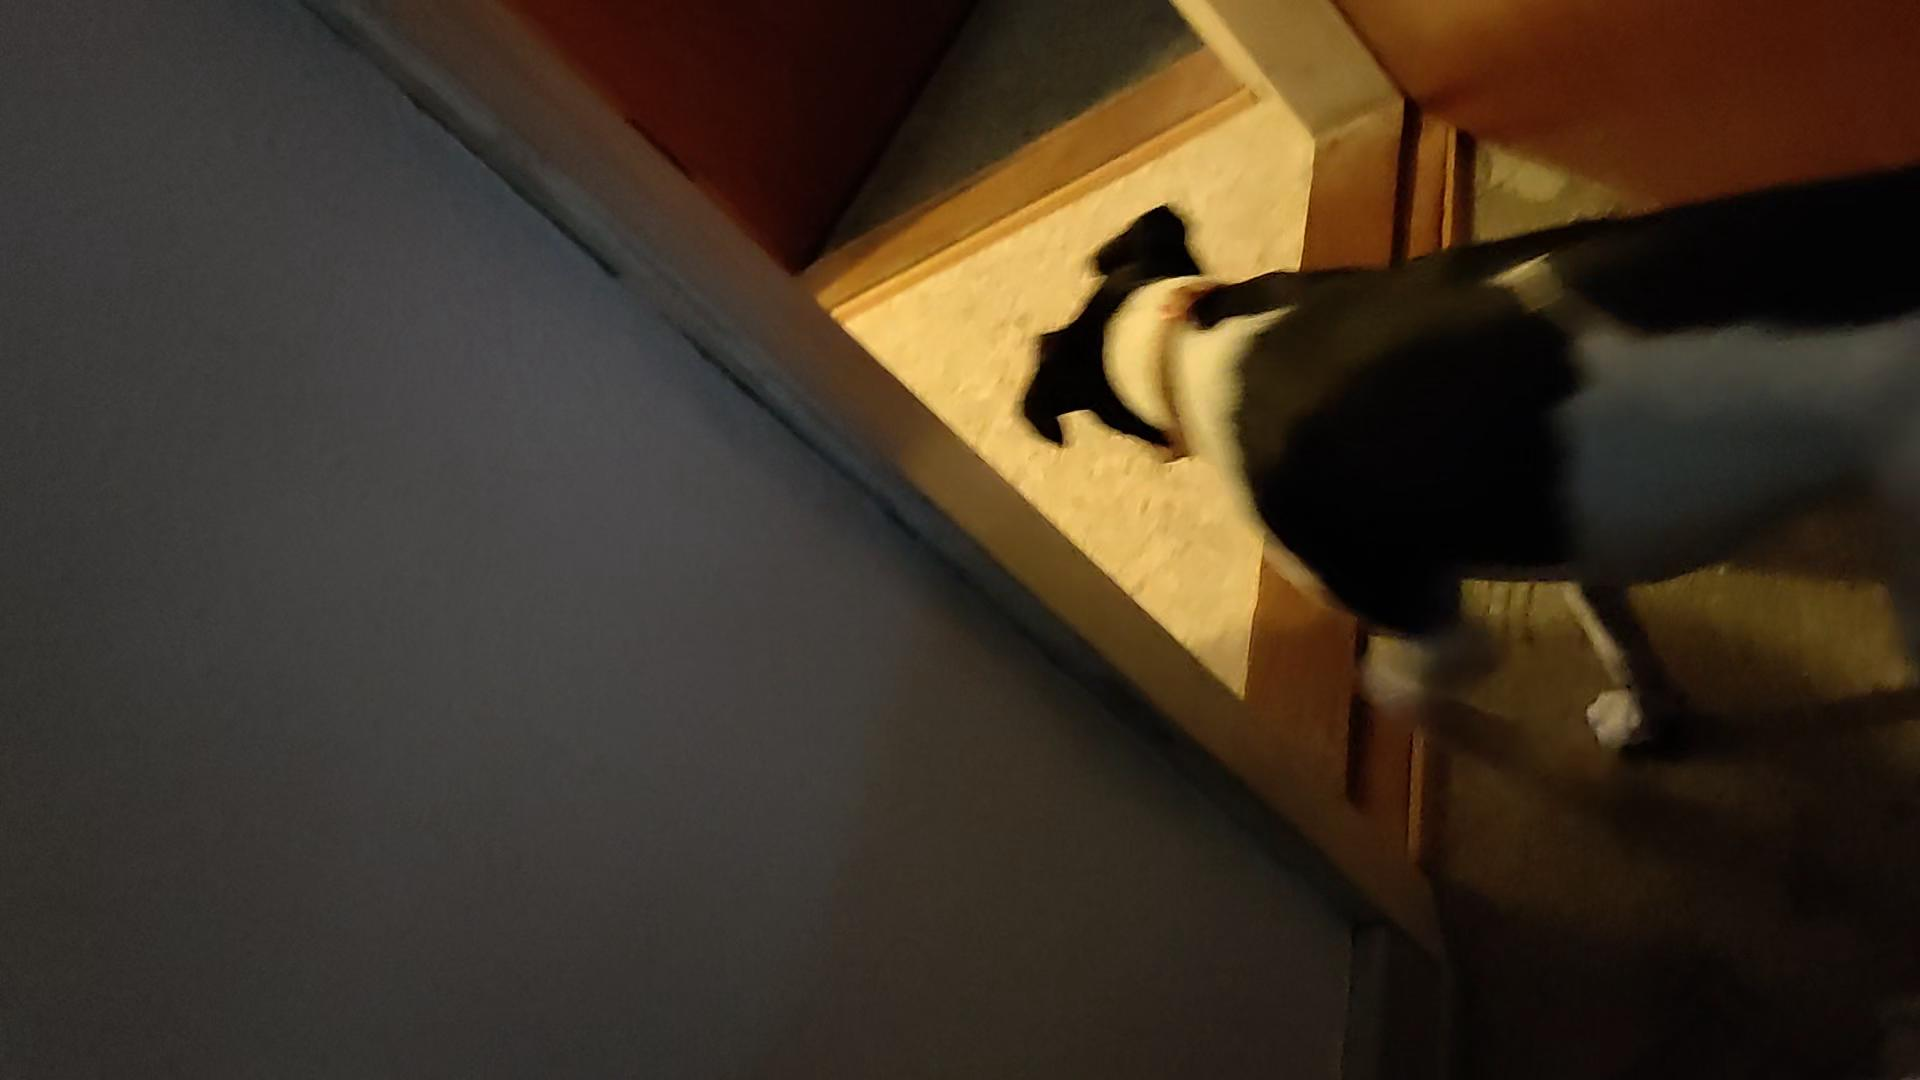Dog: (967, 146, 1919, 754)
